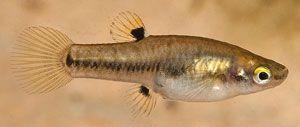Mosquito Fish: (11, 8, 289, 120)
